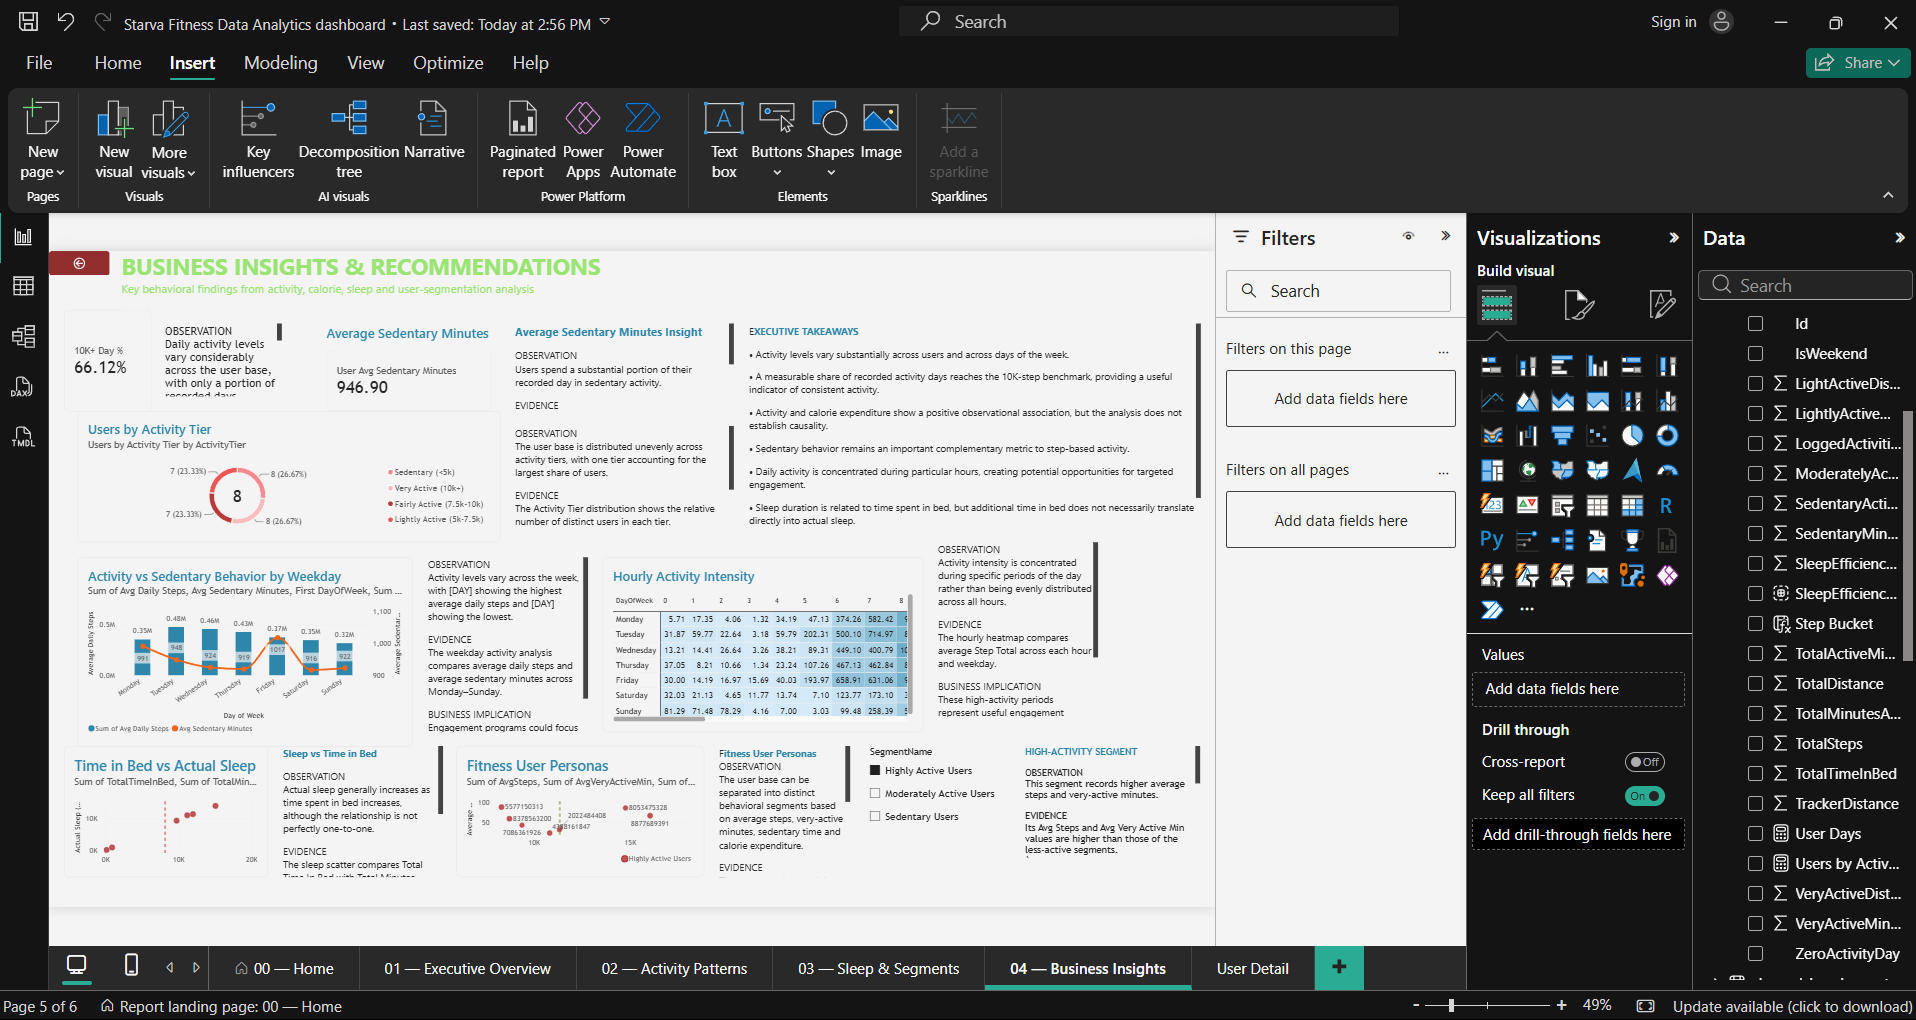

Layout of this report page (visuals, bound fields, positions):
{"tool":"powerbi","page":{"name":"04 — Business Insights","canvas":[1920,1080],"ordinal":4},"visuals":[{"type":"textbox","box":[120,0,1776,96],"z":0},{"type":"cardVisual","fields":{"Data":["Measure_Table.10K+ Day %"]},"box":[24,96,144,168],"z":1000},{"type":"textbox","box":[192,120,192,120],"z":2000},{"type":"donutChart","title":"Users by Activity Tier","fields":{"Category":["cleaned_daily_master.ActivityTier"],"Y":["cleaned_daily_master.Users by Activity Tier"]},"box":[48,264,696,216],"z":3000},{"type":"textbox","box":[768,288,360,168],"z":4000},{"type":"cardVisual","title":"Average Sedentary Minutes","fields":{"Data":["DateDim.User Avg Sedentary Minutes"]},"box":[456,120,272,144],"z":5000},{"type":"textbox","box":[768,120,360,144],"z":6000},{"type":"lineClusteredColumnComboChart","title":"Activity vs Sedentary Behavior by Weekday","fields":{"Category":["cleaned_daily_master.DayOfWeek"],"Y":["Sum(cleaned_daily_master.Avg Daily Steps)"],"Y2":["Measure_Table.Avg Sedentary Minutes"]},"box":[48,504,552,312],"z":7000},{"type":"textbox","box":[624,504,264,288],"z":8000},{"type":"pivotTable","title":"Hourly Activity Intensity","fields":{"Rows":["cleaned_hourly_master.DayOfWeek"],"Columns":["cleaned_hourly_master.Hour"],"Values":["Avg(cleaned_hourly_master.StepTotal)"]},"box":[912,504,528,288],"z":9000},{"type":"textbox","box":[1464,480,264,288],"z":10000},{"type":"scatterChart","title":"Time in Bed vs Actual Sleep","fields":{"X":["Sum(cleaned_sleepDay_merged.TotalTimeInBed)"],"Y":["Sum(cleaned_sleepDay_merged.TotalMinutesAsleep)"],"Category":["cleaned_sleepDay_merged.Id"]},"box":[24,816,336,216],"z":11000},{"type":"textbox","box":[384,816,264,216],"z":12000},{"type":"scatterChart","title":"Fitness User Personas","fields":{"X":["Sum(user_segments.AvgSteps)"],"Y":["Sum(user_segments.AvgVeryActiveMin)"],"Series":["user_segments.SegmentName"],"Category":["user_segments.Id"],"Size":["Sum(user_segments.AvgCalories)"]},"box":[672,816,408,216],"z":13000},{"type":"textbox","box":[1104,816,216,216],"z":14000},{"type":"slicer","title":"Segment Profile Summary","fields":{"Values":["user_segments.SegmentName"]},"box":[1344,816,240,192],"z":15000},{"type":"textbox","box":[1608,816,288,192],"z":16000},{"type":"textbox","box":[1152,120,744,336],"z":17000},{"type":"actionButton","box":[0,0,100,40],"z":18000}]}

Visuals, with their boxes on the page's 1920x1080 design canvas (x1, y1, x2, y2). These are canvas units, not pixel positions in the 1916x1020 screenshot, which may show the page scaled, cropped or inside an application window:
textbox: 120 0 1896 96
cardVisual - Measure_Table.10K+ Day %: 24 96 168 264
textbox: 192 120 384 240
"Users by Activity Tier" donutChart: 48 264 744 480
textbox: 768 288 1128 456
"Average Sedentary Minutes" cardVisual: 456 120 728 264
textbox: 768 120 1128 264
"Activity vs Sedentary Behavior by Weekday" lineClusteredColumnComboChart: 48 504 600 816
textbox: 624 504 888 792
"Hourly Activity Intensity" pivotTable: 912 504 1440 792
textbox: 1464 480 1728 768
"Time in Bed vs Actual Sleep" scatterChart: 24 816 360 1032
textbox: 384 816 648 1032
"Fitness User Personas" scatterChart: 672 816 1080 1032
textbox: 1104 816 1320 1032
"Segment Profile Summary" slicer: 1344 816 1584 1008
textbox: 1608 816 1896 1008
textbox: 1152 120 1896 456
actionButton: 0 0 100 40
